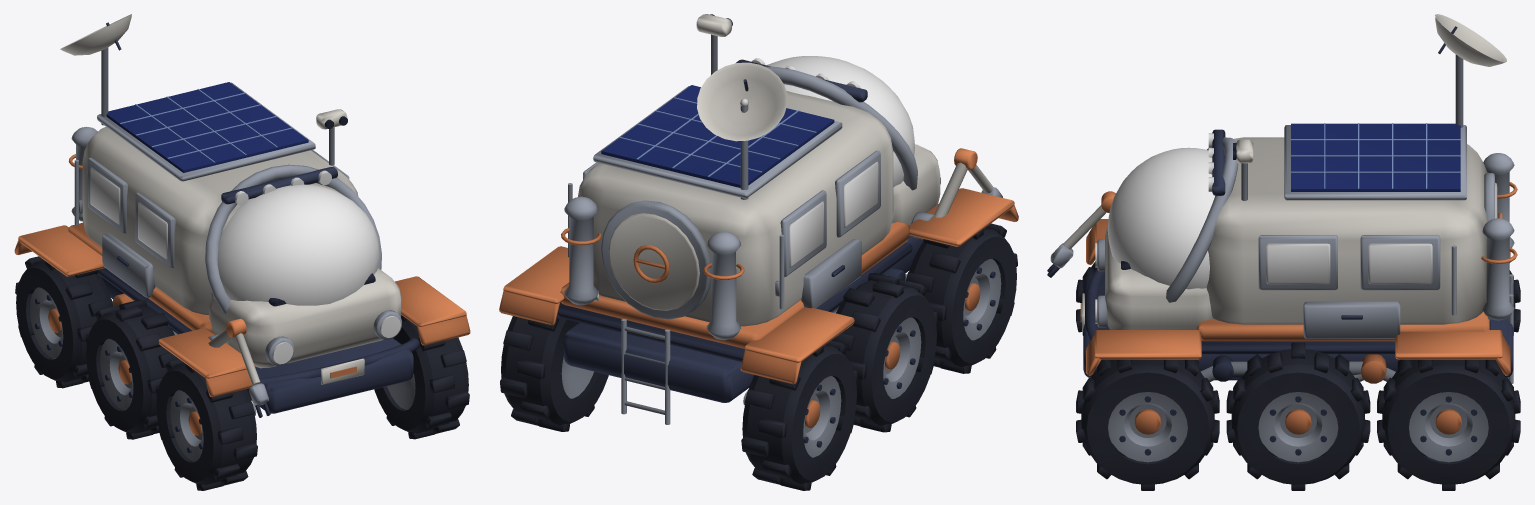
File: rover.glb
The picture shows the model from 3 angles, left to right: view 1: azimuth 30°, elevation 25°; view 2: azimuth 150°, elevation 25°; view 3: azimuth 270°, elevation 25°; orthographic projection. The views are drawn at different scales.
Visible parts, largest first — view 1: rover, wheel_l0, wheel_l1, wheel_l2, wheel_r0; view 2: rover, wheel_l2, wheel_l1, wheel_l0, wheel_r2; view 3: rover, wheel_r1, wheel_r2, wheel_r0.
Part boxes in pixels (<box>): rover: <box>14,14,470,417</box>; wheel_l0: <box>155,359,257,490</box>; wheel_l1: <box>85,299,178,439</box>; wheel_l2: <box>15,256,112,388</box>; wheel_r0: <box>374,315,469,439</box>; rover: <box>499,14,1018,424</box>; wheel_l2: <box>741,340,857,490</box>; wheel_l1: <box>831,273,937,432</box>; wheel_l0: <box>906,223,1017,373</box>; wheel_r2: <box>500,303,608,431</box>; rover: <box>1047,14,1517,383</box>; wheel_r1: <box>1226,342,1370,490</box>; wheel_r2: <box>1377,359,1520,490</box>; wheel_r0: <box>1076,359,1219,490</box>.
Bounding box in the file's own units: 3 × 3.86 × 4.4.
